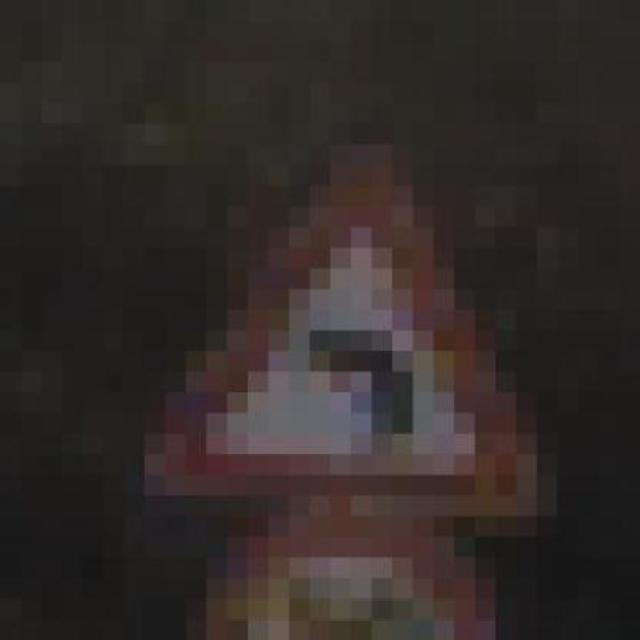Dangerous Left Curve Ahead: (82, 83, 558, 537)
